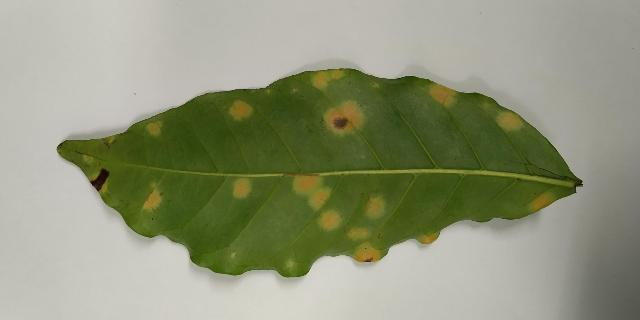miner: (323, 100, 365, 135), (294, 176, 329, 208), (312, 68, 345, 89), (352, 242, 385, 262), (429, 82, 456, 106), (87, 168, 109, 196), (142, 182, 162, 210), (531, 192, 552, 212), (319, 211, 341, 230), (498, 112, 521, 129), (230, 101, 251, 119), (365, 198, 383, 217), (233, 178, 249, 197), (146, 121, 162, 136), (418, 233, 439, 244), (347, 228, 368, 239), (283, 258, 297, 272), (82, 152, 95, 165), (102, 134, 116, 143), (370, 82, 378, 87), (232, 253, 235, 257), (378, 234, 381, 238)
